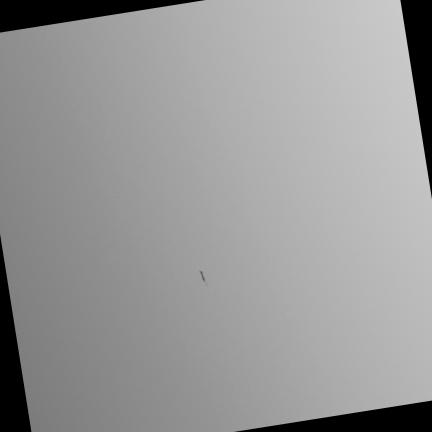Shahed: (199, 271, 207, 284)
